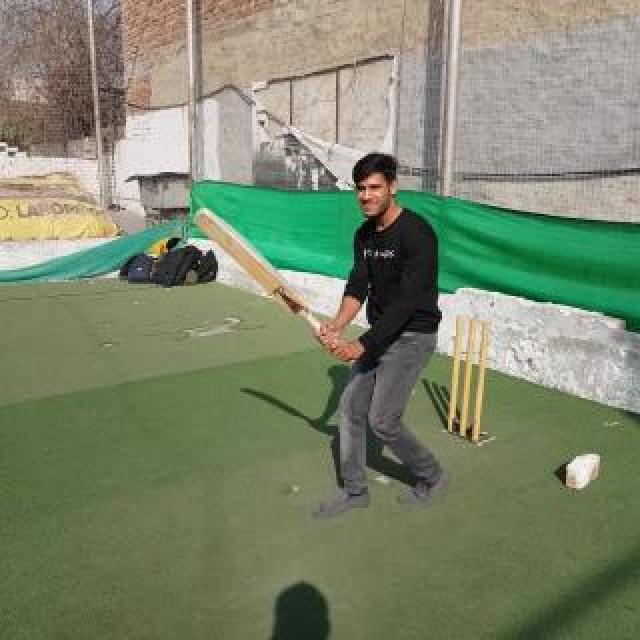bat: (194, 208, 354, 364)
